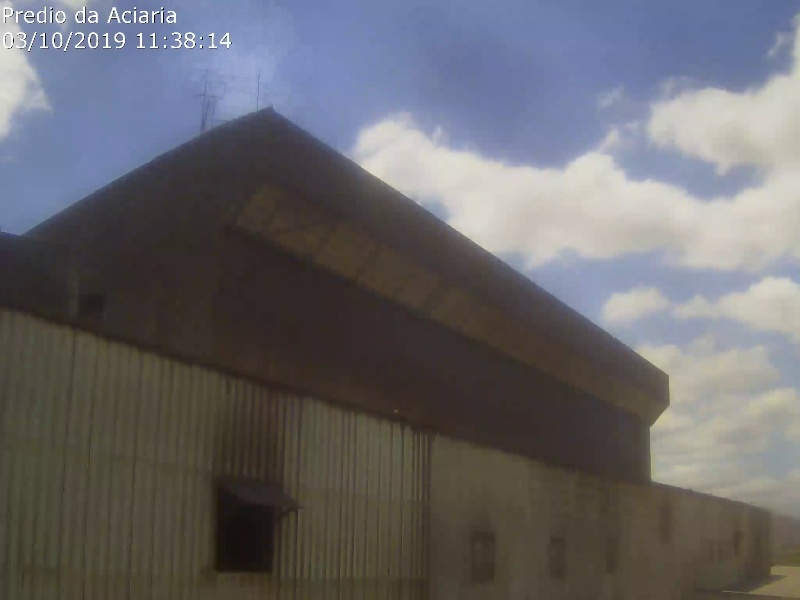bom: (274, 32, 681, 430), (3, 2, 281, 181)
